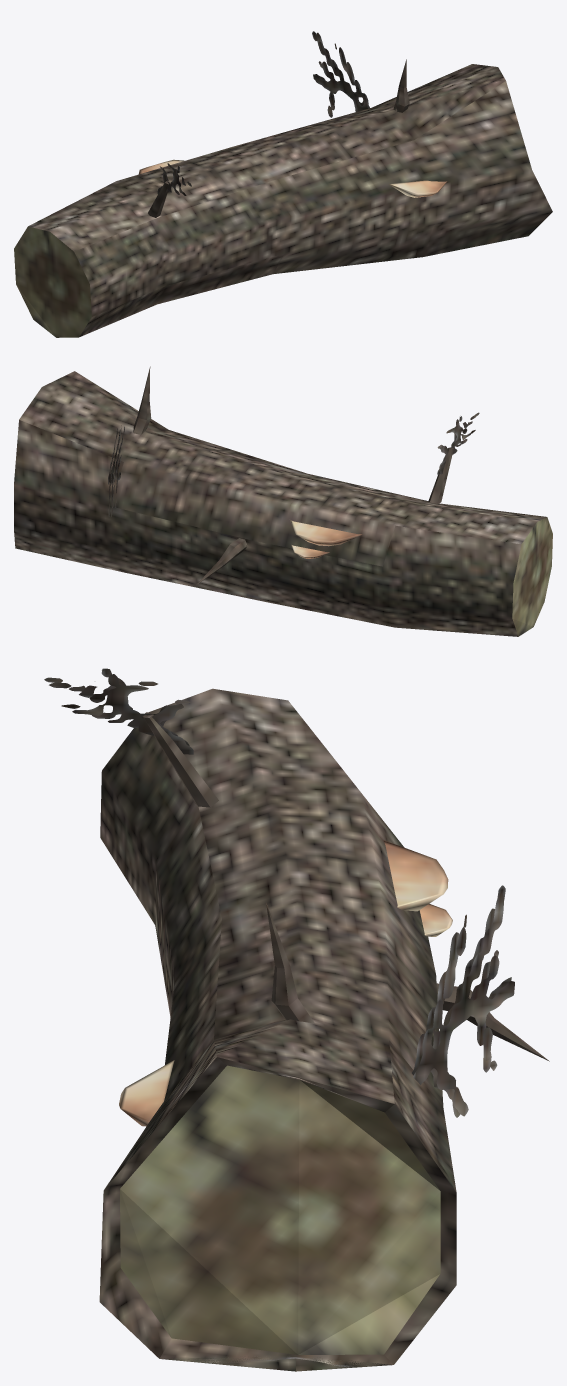
Rendered from dead_tree_v4.glb.
3 views of the same model, one above another, from view 1: azimuth 30°, elevation 25°; view 2: azimuth 150°, elevation 25°; view 3: azimuth 270°, elevation 25° (orthographic). The views are drawn at different scales.
Visible parts, largest first — view 1: eyecandy_tree_dead_d; view 2: eyecandy_tree_dead_d; view 3: eyecandy_tree_dead_d.
Boxes of the visible parts, x1,y1,x2,y2 form: eyecandy_tree_dead_d: [14, 31, 552, 337]; eyecandy_tree_dead_d: [14, 366, 552, 636]; eyecandy_tree_dead_d: [44, 668, 549, 1371].
Bounding box in the file's own units: 6.8 × 2.52 × 3.25.
Materials: 1 (1 with a texture image).
